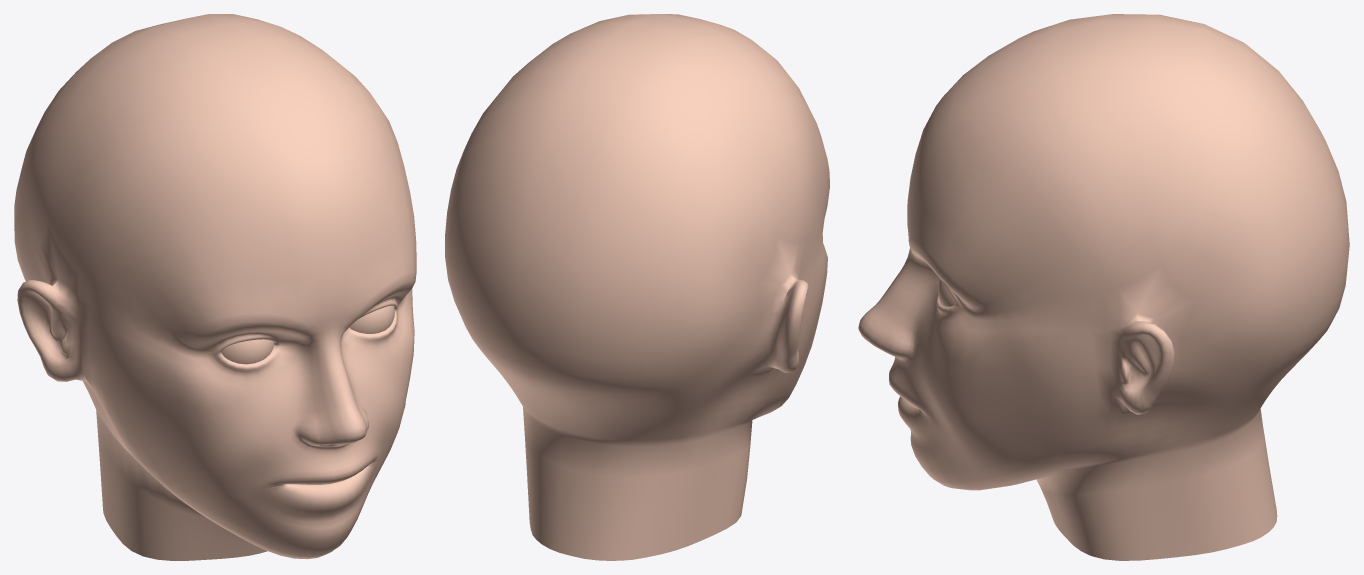
The model's file is head.fbx.
3 renders of one model, left to right at view 1: azimuth 30°, elevation 25°; view 2: azimuth 150°, elevation 25°; view 3: azimuth 270°, elevation 25°, orthographic. The views are drawn at different scales.
Parts seen in each view (by area): view 1: Face; view 2: Face; view 3: Face.
Boxes of the visible parts, bbox=[...] form: Face: bbox=[14, 14, 416, 560]; Face: bbox=[445, 14, 829, 560]; Face: bbox=[858, 14, 1349, 560].
Bounding box in the file's own units: 0.1893 × 0.2387 × 0.2197.
